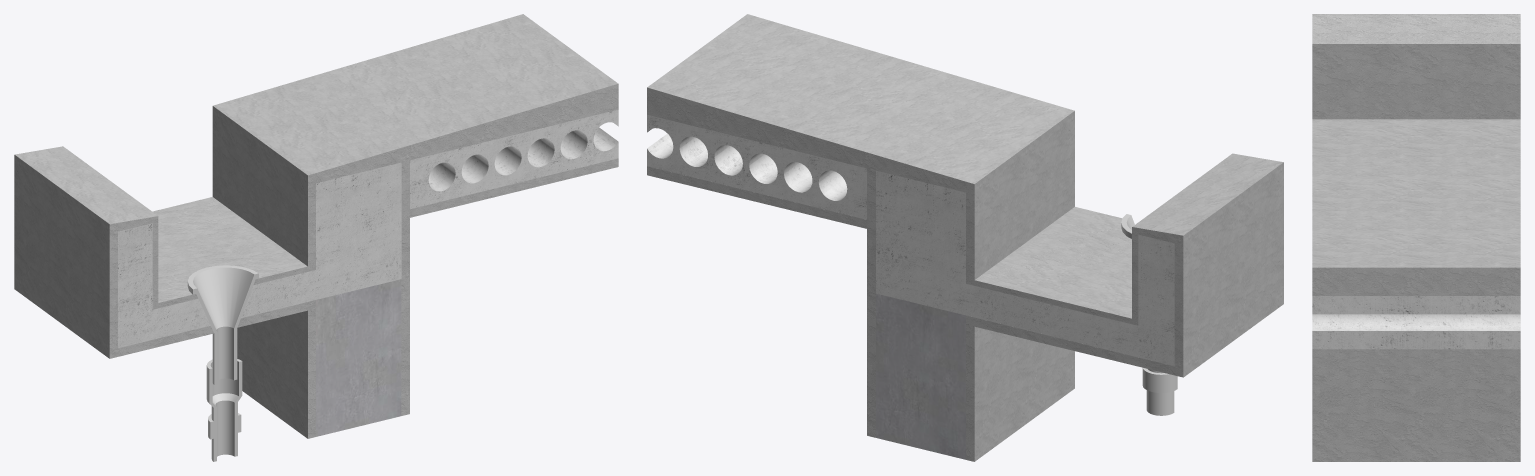
Rendered from organized-drainage.glb.
The picture shows the model from 3 angles, left to right: view 1: azimuth 30°, elevation 25°; view 2: azimuth 150°, elevation 25°; view 3: azimuth 270°, elevation 25°; orthographic projection. The views are drawn at different scales.
Parts seen in each view (by area): view 1: 04, 01, 03, 02; view 2: 04, 01, 03, 02; view 3: 04, 03.
Boxes of the visible parts, x1=… form: 04: x1=14, y1=14, x2=618, y2=438; 01: x1=118, y1=162, x2=401, y2=436; 03: x1=410, y1=109, x2=618, y2=208; 02: x1=187, y1=265, x2=258, y2=461; 04: x1=647, y1=14, x2=1283, y2=461; 01: x1=876, y1=170, x2=1174, y2=459; 03: x1=647, y1=114, x2=866, y2=219; 02: x1=1121, y1=214, x2=1177, y2=415; 04: x1=1312, y1=14, x2=1520, y2=461; 03: x1=1312, y1=296, x2=1520, y2=349.
Bounding box in the file's own units: 3.08 × 1.62 × 1.
Materials: 5 (4 with a texture image).
